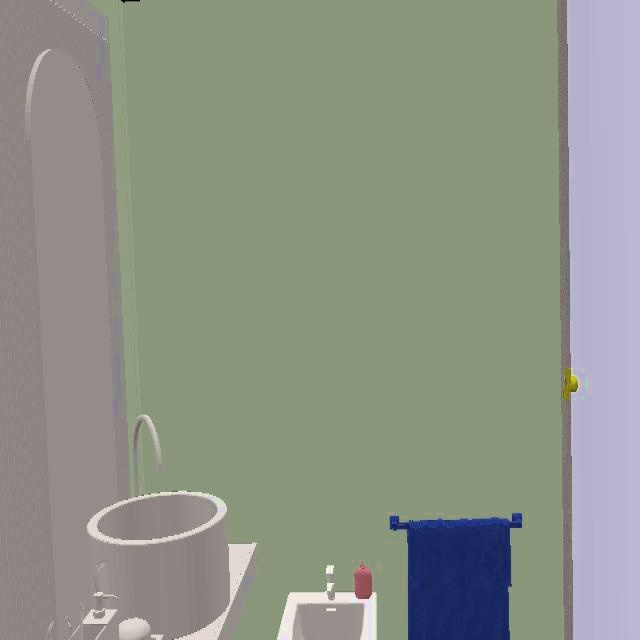washbasin: (85, 492, 232, 640), (277, 570, 379, 639)
